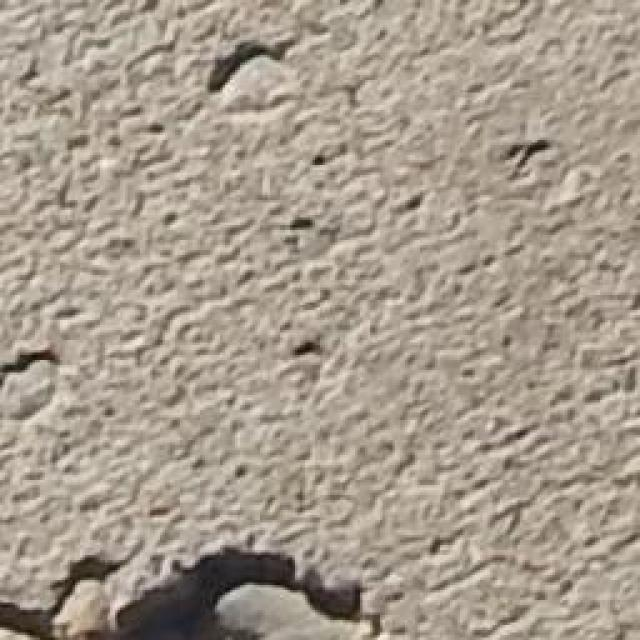concrete-crack: (0, 536, 400, 640), (201, 37, 309, 97)
